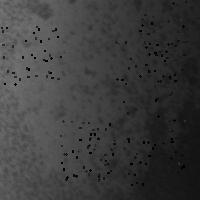pitted_surface: (82, 1, 184, 187), (1, 1, 78, 200), (144, 98, 200, 200), (115, 41, 174, 101), (128, 14, 186, 73), (60, 120, 118, 178), (1, 26, 60, 83), (127, 108, 184, 166), (85, 132, 145, 184), (137, 0, 189, 50)
